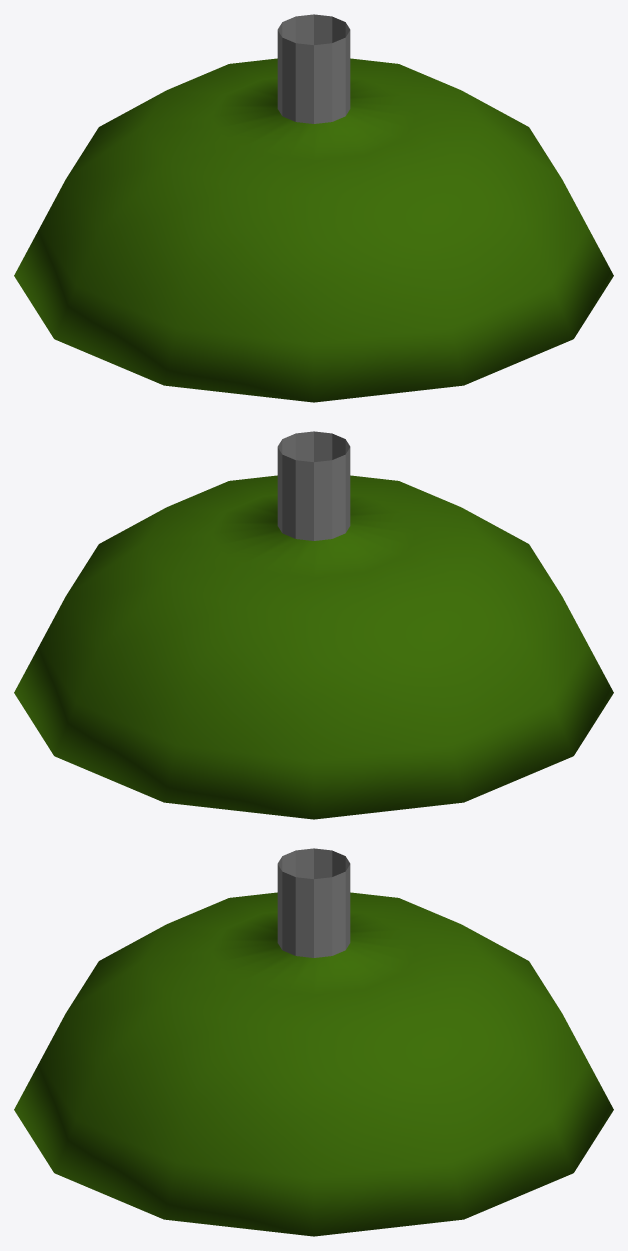
The model's file is Wolfenstein3D-RME_small_ceiling_lamp.fbx.
3 views of the same model, one above another, from view 1: azimuth 30°, elevation 25°; view 2: azimuth 150°, elevation 25°; view 3: azimuth 270°, elevation 25° (orthographic).
Visible parts, largest first — view 1: lamp; view 2: lamp; view 3: lamp.
Boxes of the visible parts, x1=… form: lamp: x1=14, y1=14, x2=613, y2=402; lamp: x1=14, y1=431, x2=613, y2=819; lamp: x1=14, y1=848, x2=613, y2=1236.
Bounding box in the file's own units: 0.6336 × 0.6336 × 0.2866.
